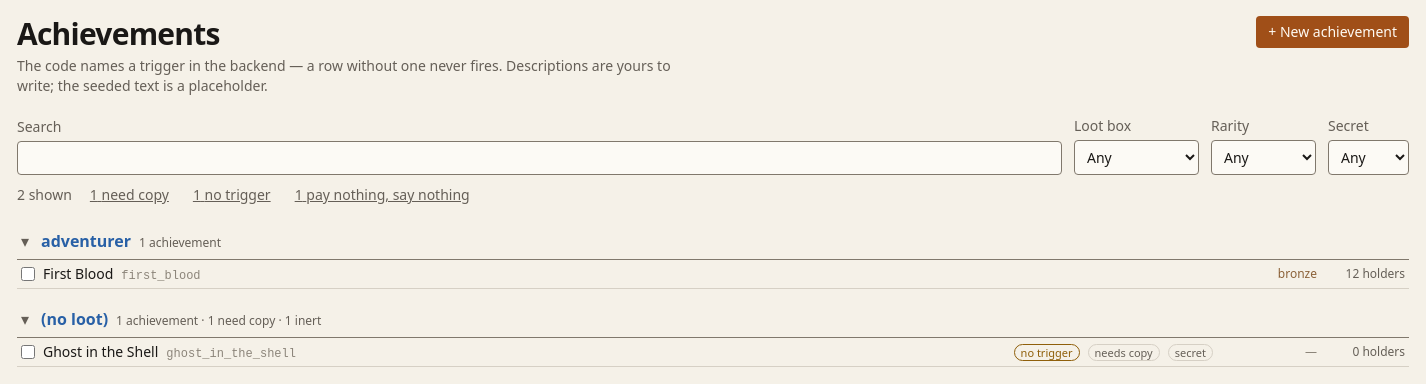
Test case: AdminAchievementsPage › searches by code as well as name
Expected: the button "First Blood" is shown, x1=43 y1=264 x2=1213 y2=284
Type "ghost_in" into the field named "Search achievements".
click(540, 158); type("ghost_in")  # box x1=17 y1=141 x2=1062 y2=175
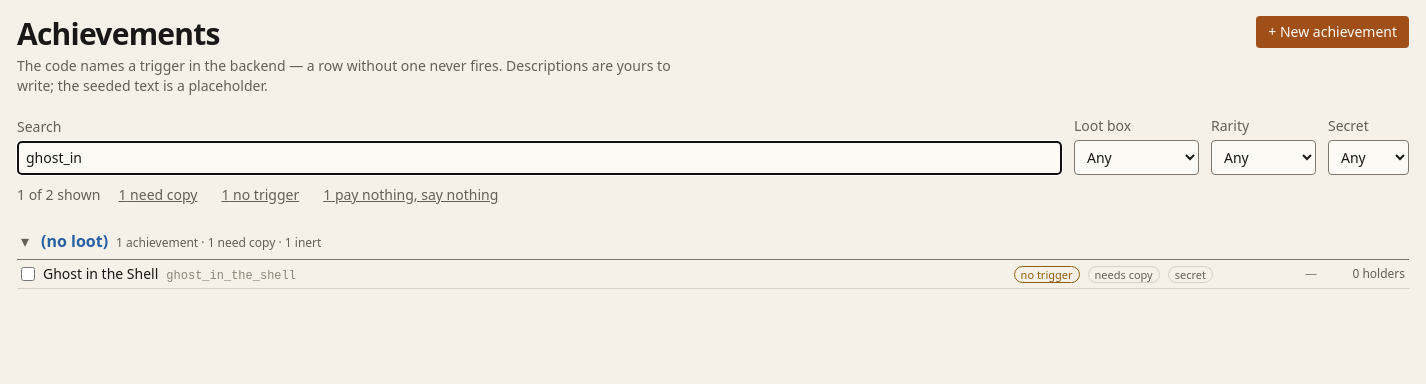
Expected: the button "Ghost in the Shell" is shown, x1=43 y1=264 x2=1006 y2=284
Result: the button "First Blood" is gone
